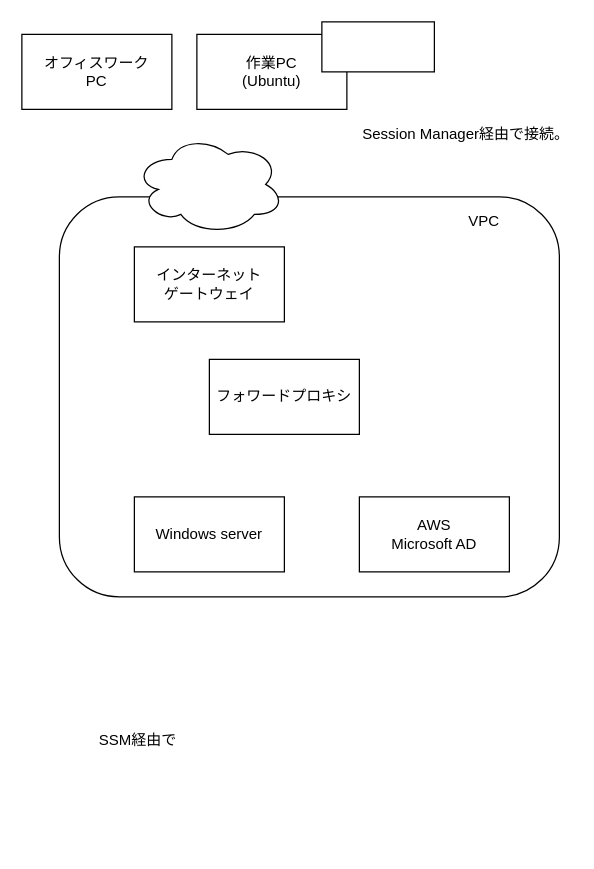
This 594x869 diagram has some shape labels left out. Each missing label, with the centre of its shape:
Terraform Ansible: point 377,46
インターネット: point 208,183
